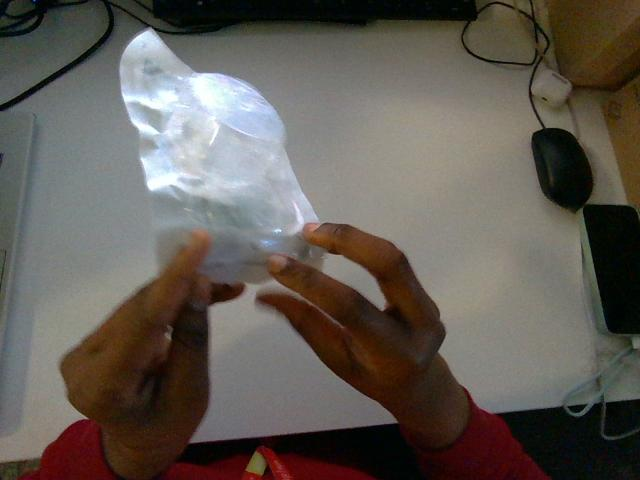gallipot: (120, 29, 322, 282)
